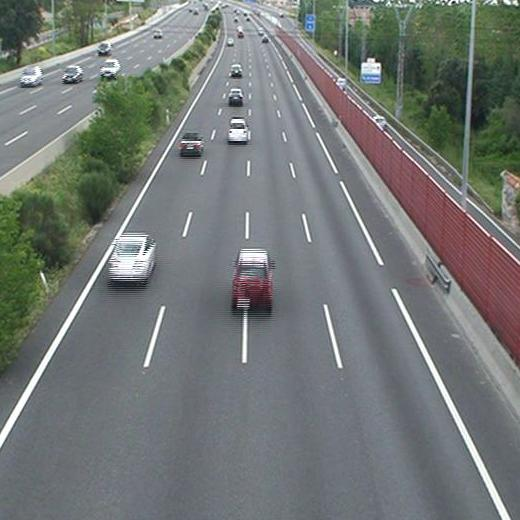car: (232, 251, 270, 306), (108, 236, 154, 278), (180, 133, 203, 154), (228, 119, 248, 142), (229, 89, 244, 104), (231, 64, 242, 77), (226, 38, 234, 46)
